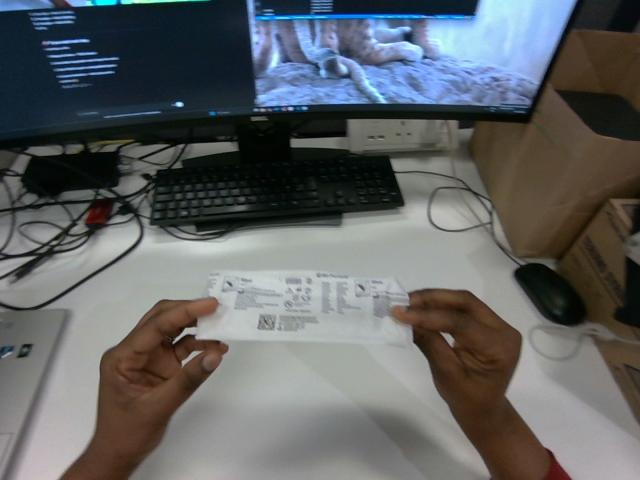syringe: (196, 271, 412, 346)
